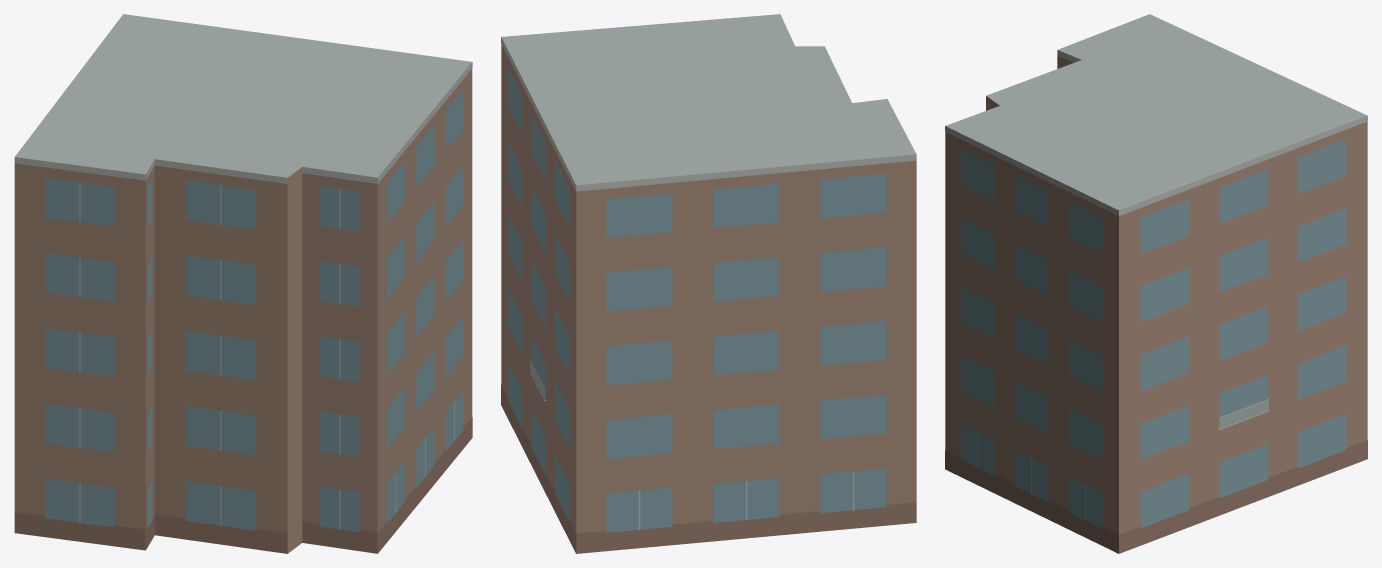
File: survey-upis-32689016.glb
The picture shows the model from 3 angles, left to right: view 1: azimuth 30°, elevation 25°; view 2: azimuth 150°, elevation 25°; view 3: azimuth 270°, elevation 25°; orthographic projection. The views are drawn at different scales.
Visible parts, largest first — view 1: survey-upis-32689016.tmp; view 2: survey-upis-32689016.tmp; view 3: survey-upis-32689016.tmp.
Part boxes in pixels (x1=…): survey-upis-32689016.tmp: x1=14, y1=14, x2=472, y2=553; survey-upis-32689016.tmp: x1=501, y1=14, x2=916, y2=553; survey-upis-32689016.tmp: x1=945, y1=14, x2=1367, y2=553.
Size of the model in its own units: 17.8 by 14.5 by 16.18.
